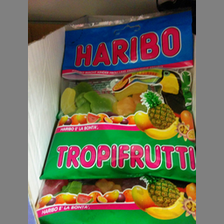candy: (43, 13, 196, 183)
